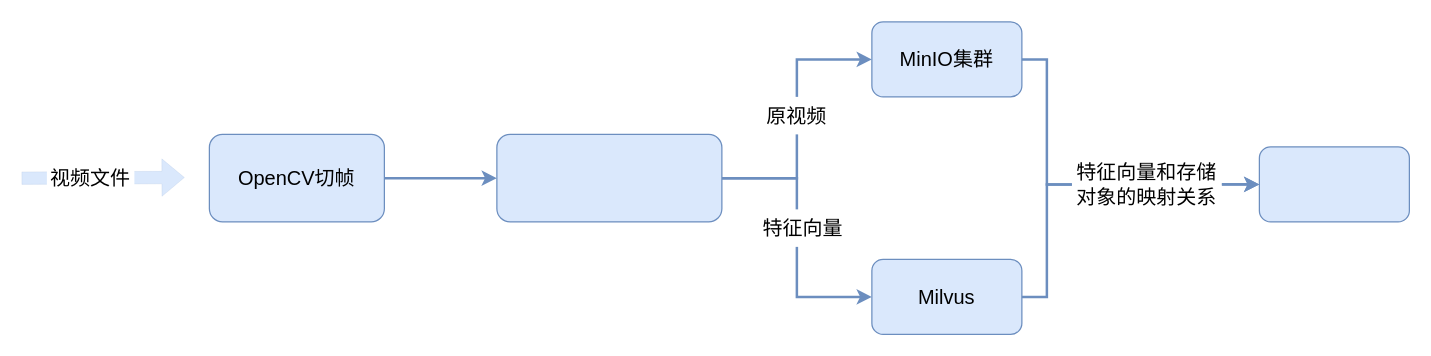
Some shapes in this 1431 by 356 pixel diagram are drawn without their labels. The shapes that lost their labels are listed below. From the top down, each one's box as (x1, y1, x2, y2) in pixels, then its label:
(496, 133, 722, 222): Vgg模型提取图片特征
(1258, 146, 1409, 222): Redis
